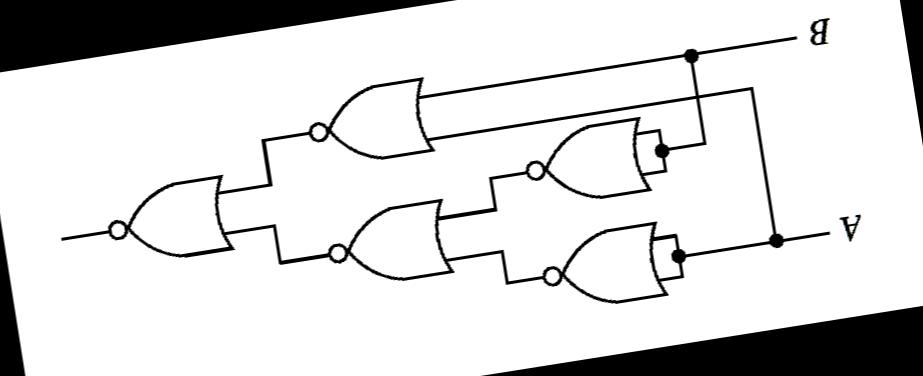nor: (311, 190, 459, 296), (94, 166, 239, 272), (528, 215, 674, 320), (294, 71, 440, 176), (512, 110, 658, 214)
